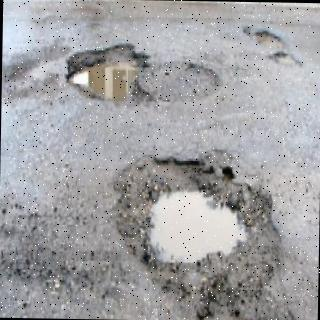pothole: (122, 156, 295, 320), (65, 44, 149, 103), (239, 23, 304, 66)
